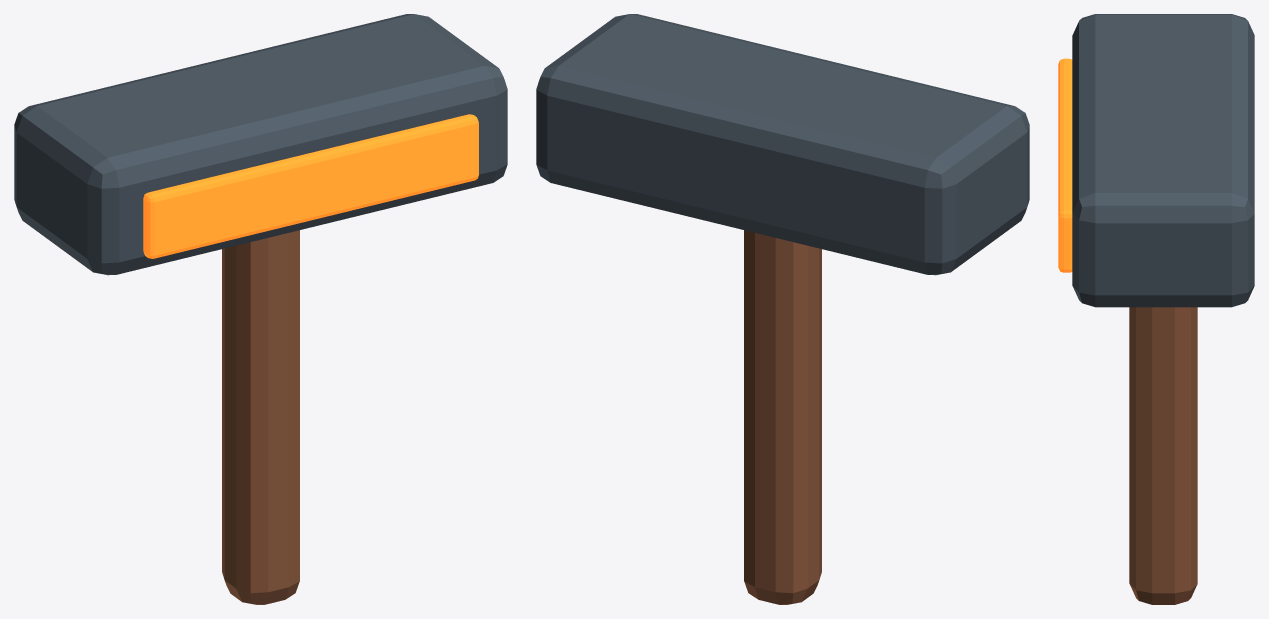
Rendered from Foundry-Lamp.glb.
3 renders of one model, left to right at view 1: azimuth 30°, elevation 25°; view 2: azimuth 150°, elevation 25°; view 3: azimuth 270°, elevation 25°, orthographic. The views are drawn at different scales.
Visible parts, largest first — view 1: Factory_Light_Housing.001, Light_Stand.001, Factory_Light.001; view 2: Factory_Light_Housing.001, Light_Stand.001; view 3: Factory_Light_Housing.001, Light_Stand.001, Factory_Light.001.
Boxes of the visible parts, box(x1,y1,x2,y2) form: Factory_Light_Housing.001: box(14, 14, 507, 275); Light_Stand.001: box(222, 230, 299, 604); Factory_Light.001: box(143, 114, 478, 258); Factory_Light_Housing.001: box(536, 14, 1029, 275); Light_Stand.001: box(744, 230, 821, 604); Factory_Light_Housing.001: box(1072, 14, 1254, 307); Light_Stand.001: box(1129, 307, 1197, 604); Factory_Light.001: box(1058, 58, 1072, 272).
Bounding box in the file's own units: 1.64 × 1.92 × 0.69.
